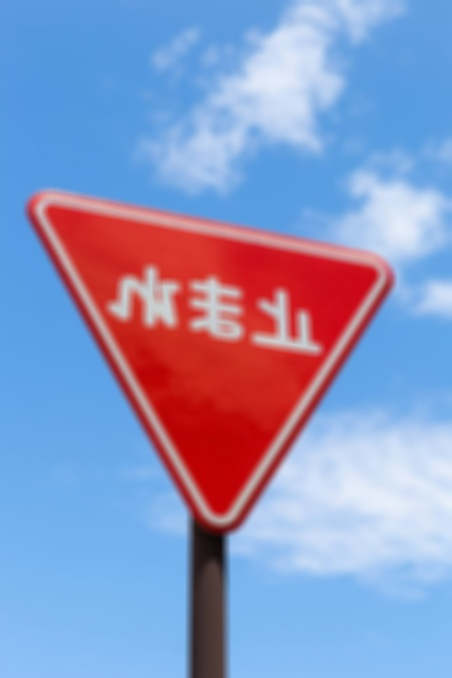Regulatory_sign_triangle: (21, 171, 415, 555)
